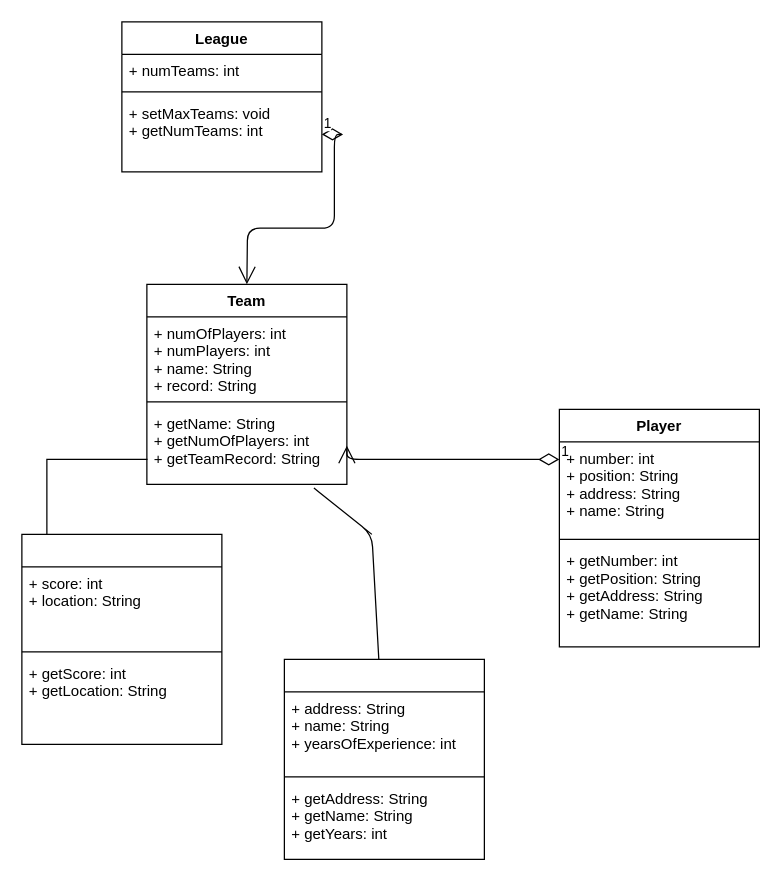
Image size: 781x885. Some labels were removed from this diagram. Each missing label, with the box of its shape:
Coach: (283, 658, 484, 859)
Game: (21, 533, 222, 744)
